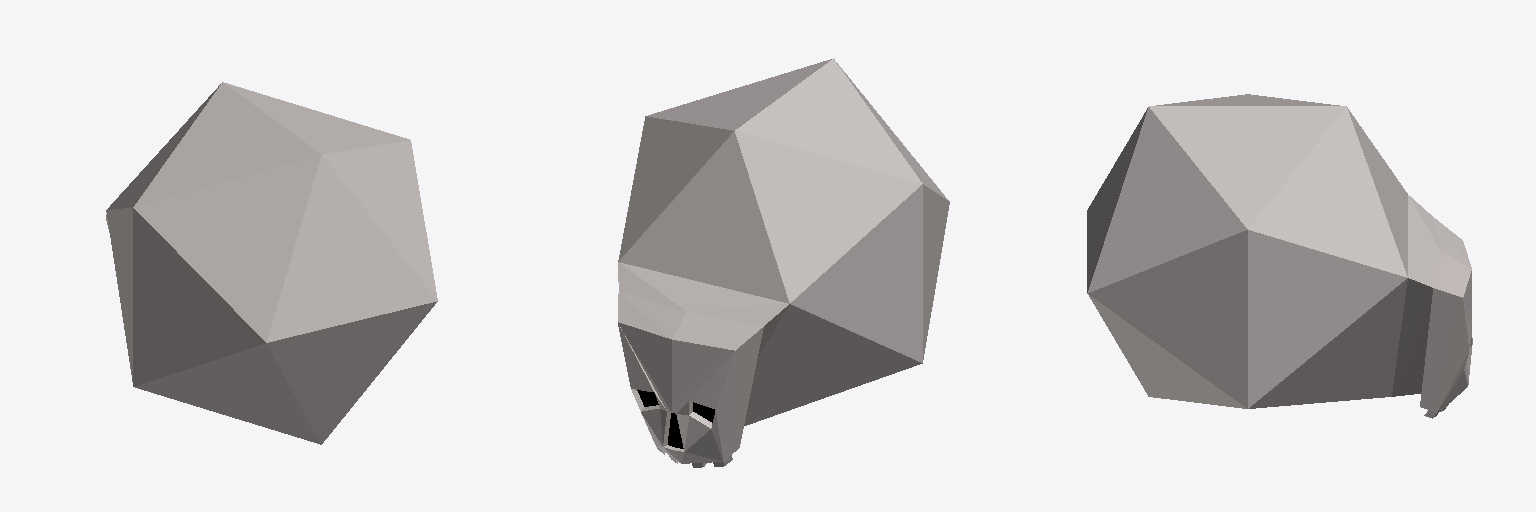
Rendered from dSkull.obj.
3 views of the same model, side by side, from view 1: azimuth 30°, elevation 25°; view 2: azimuth 150°, elevation 25°; view 3: azimuth 270°, elevation 25° (orthographic).
Visible parts, largest first — view 1: dSkull_Solid.007; view 2: dSkull_Solid.007; view 3: dSkull_Solid.007.
Part boxes in pixels (x1,y1,x2,y2): dSkull_Solid.007: (106,82,437,444); dSkull_Solid.007: (618,58,949,467); dSkull_Solid.007: (1087,94,1472,418).
Size of the model in its own units: 1.7 by 1.75 by 2.04.